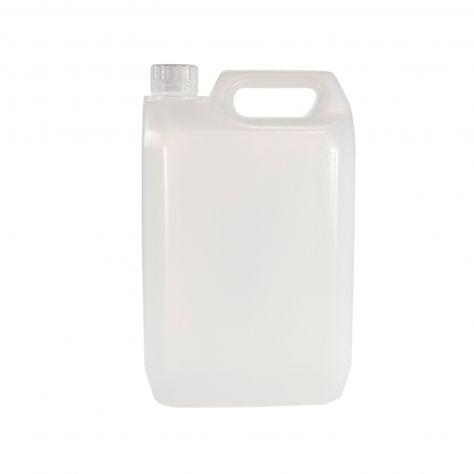HDPE: (142, 70, 354, 403), (150, 65, 197, 95)
